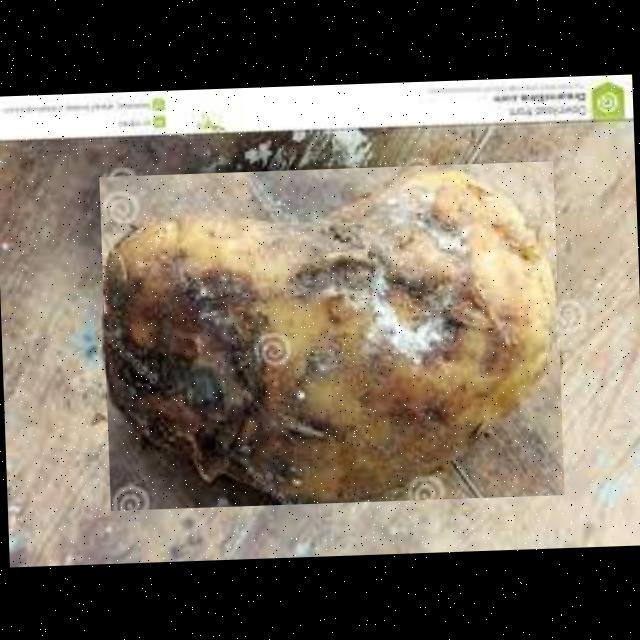Diseased-fungal potato: (98, 160, 563, 510)
